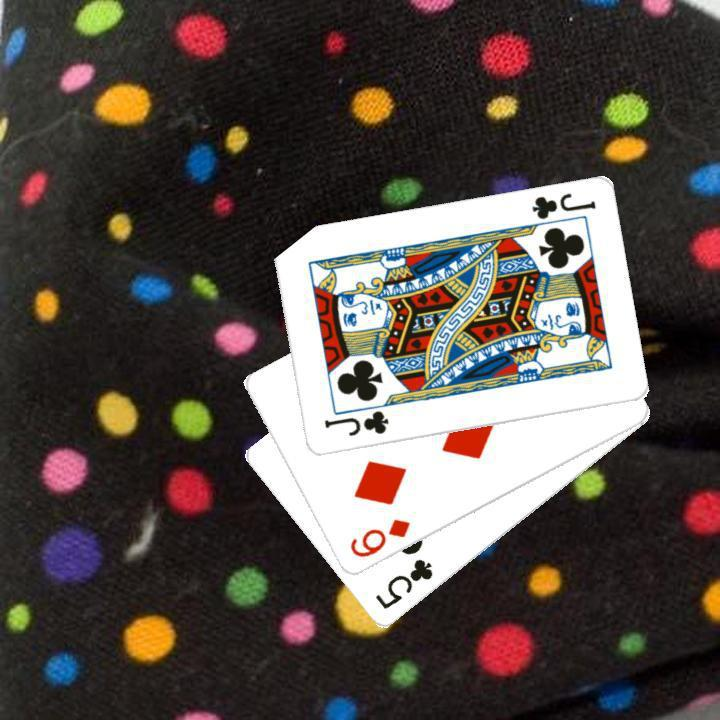5: (371, 554, 435, 613)
6: (345, 514, 412, 560)
J: (527, 189, 597, 222), (319, 407, 390, 439)
